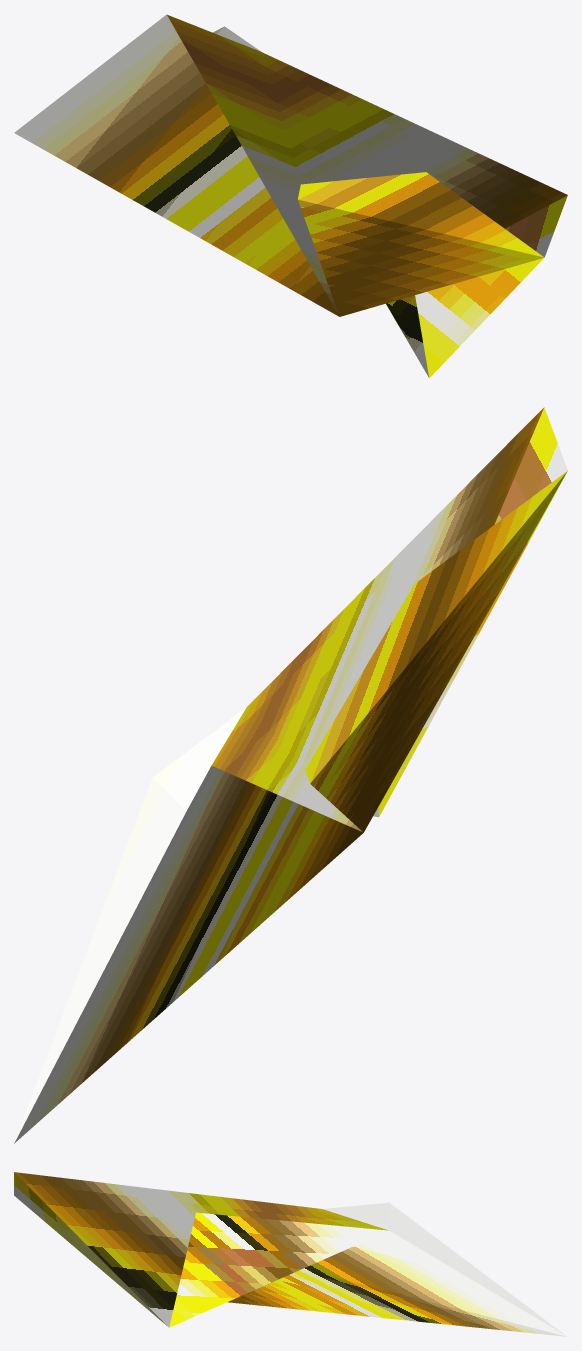
Rendered from sliver_2.obj.
The picture shows the model from 3 angles, top to bottom: view 1: azimuth 30°, elevation 25°; view 2: azimuth 150°, elevation 25°; view 3: azimuth 270°, elevation 25°; orthographic projection. The views are drawn at different scales.
Parts seen in each view (by area): view 1: Torus.003_Torus.010; view 2: Torus.003_Torus.010; view 3: Torus.003_Torus.010.
Boxes of the visible parts, box(x1,y1,x2,y2) form: Torus.003_Torus.010: box(14, 14, 567, 378); Torus.003_Torus.010: box(14, 407, 567, 1143); Torus.003_Torus.010: box(14, 1172, 567, 1336).
Size of the model in its own units: 0.1498 by 0.8089 by 2.41.
